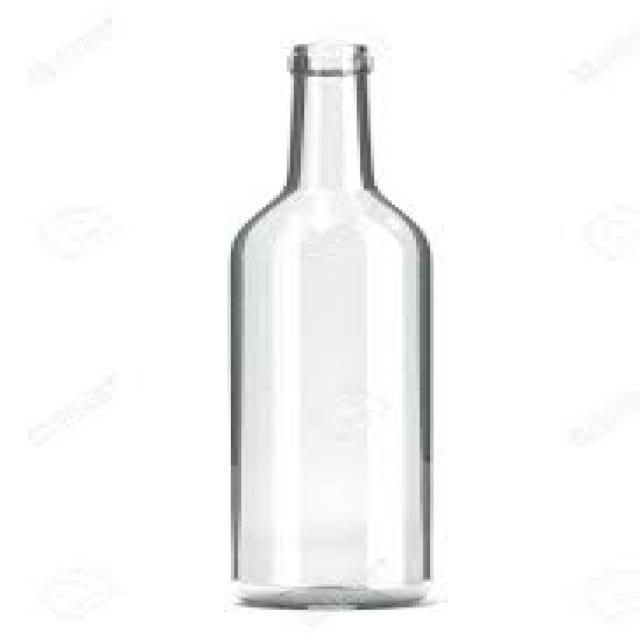Glass-Bottle: (212, 44, 453, 634)
